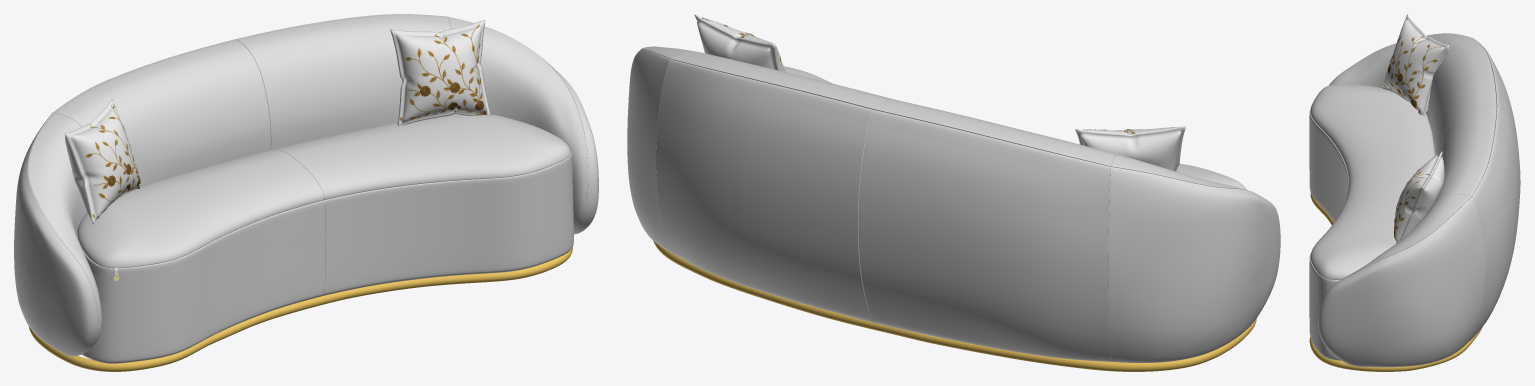
The model's file is SLN_LAVINIA_3STR.glb.
3 renders of one model, left to right at view 1: azimuth 30°, elevation 25°; view 2: azimuth 150°, elevation 25°; view 3: azimuth 270°, elevation 25°, orthographic. The views are drawn at different scales.
Visible parts, largest first — view 1: LAVINIA_3STR, Cushion, Cushion.001; view 2: LAVINIA_3STR, Cushion.001, Cushion; view 3: LAVINIA_3STR, Cushion.001, Cushion.
Part boxes in pixels (x1,y1,x2,y2): LAVINIA_3STR: [14, 14, 598, 371]; Cushion: [390, 20, 490, 125]; Cushion.001: [64, 99, 140, 223]; LAVINIA_3STR: [627, 46, 1280, 371]; Cushion.001: [1075, 125, 1185, 172]; Cushion: [694, 15, 785, 72]; LAVINIA_3STR: [1309, 33, 1520, 371]; Cushion.001: [1382, 14, 1449, 116]; Cushion: [1394, 151, 1444, 243].
Size of the model in its own units: 2.23 by 0.8032 by 0.9047.
5 materials, 1 textured.
